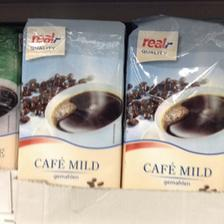Kaffee: (16, 17, 122, 188), (121, 14, 223, 190)
